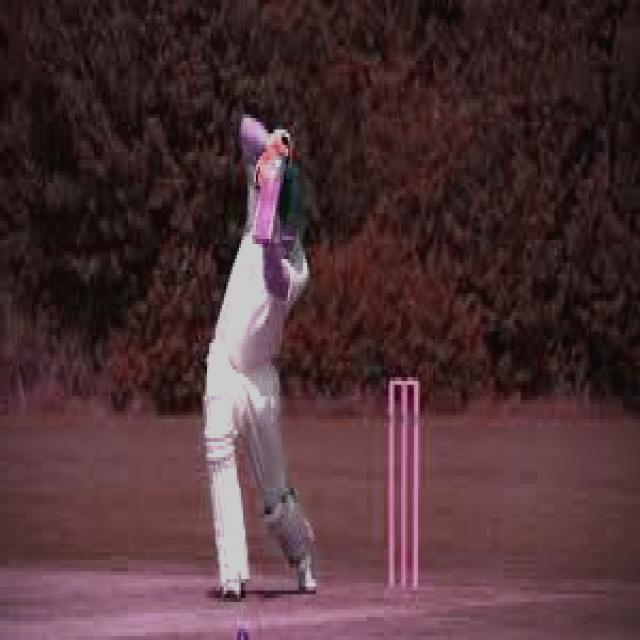bat: (253, 153, 285, 244)
toe: (242, 226, 280, 246)
